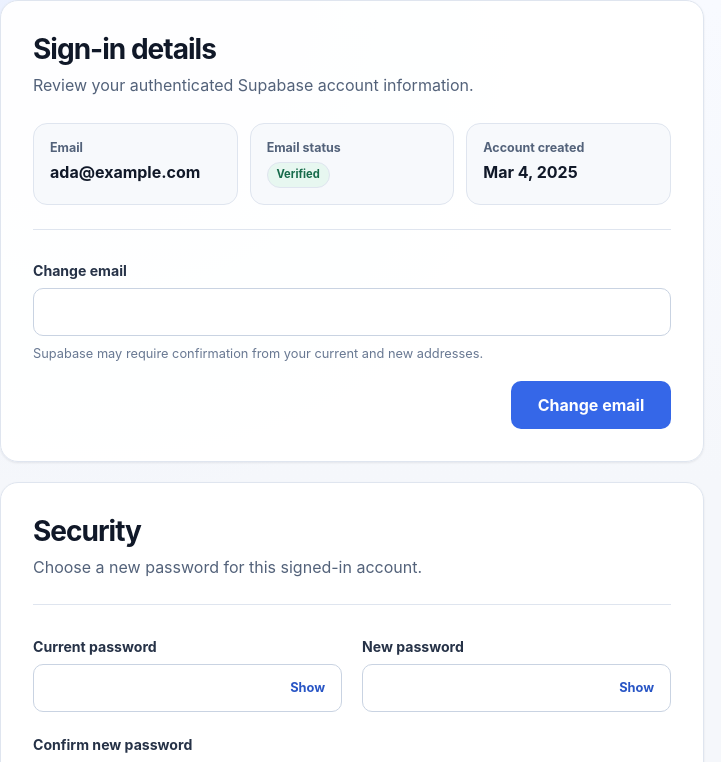
AccountSettings › shows a safe email update error
Step 1. Type "new@example.com" into the field labelled "Change email" → (352, 312), box [33,288,671,336]
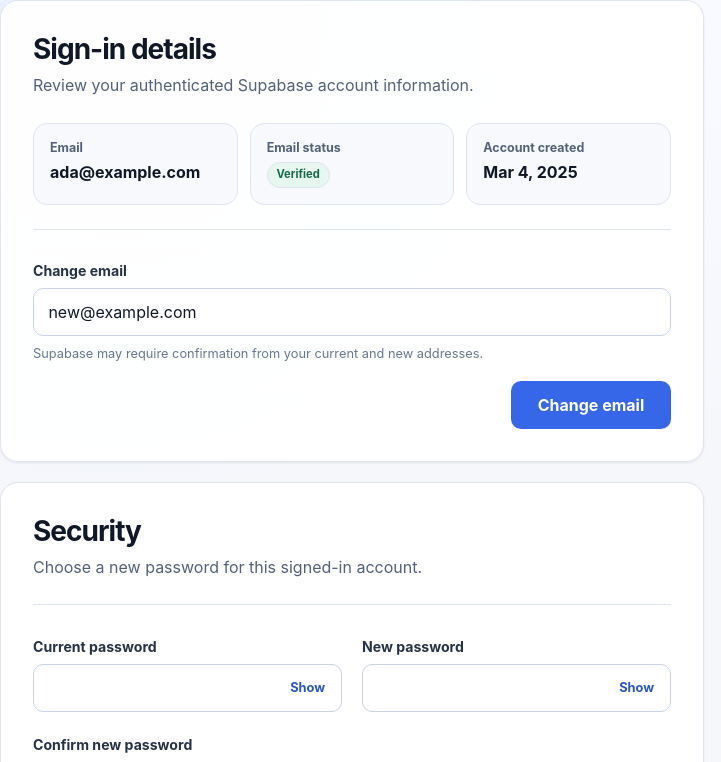
Step 2. Click the button "Change email" → (591, 405), box [511,381,671,429]
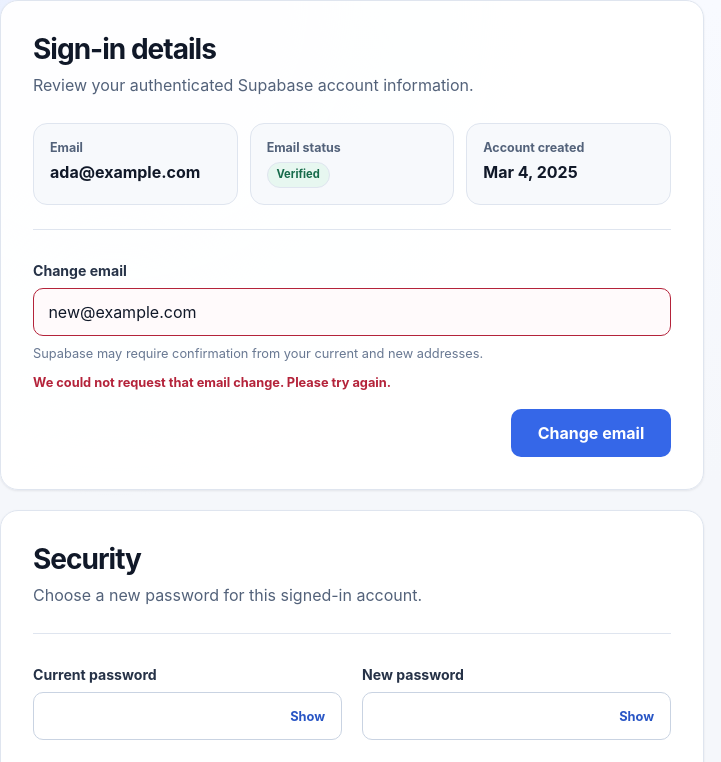
Check: the message shows "We could not request that email change", box [33,375,391,390]
